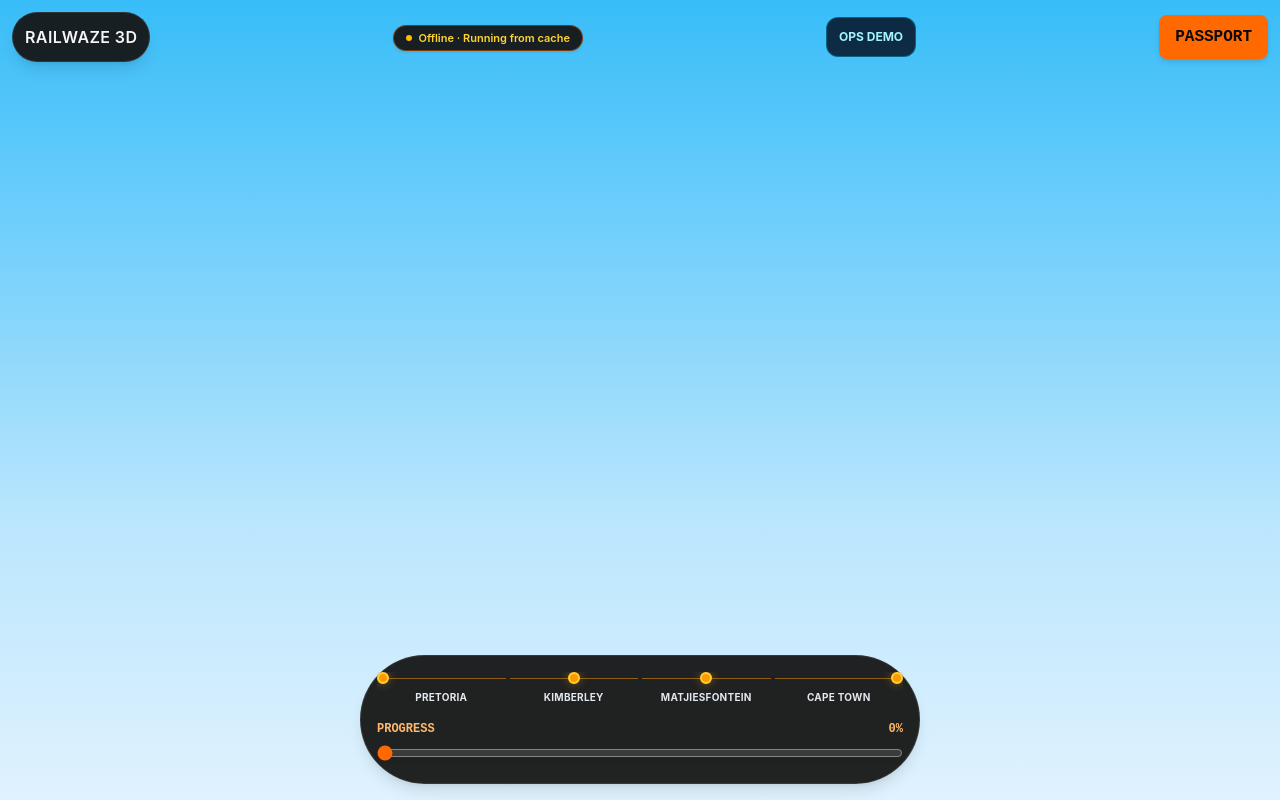
Test: UnifiedViewport Component (#41) › fetches real route and waypoint datasets on mount and does not render placeholder viewport
Expected: the button with aria-label "Open Kimberley" is shown, [510, 672, 638, 705]
Expected: the button with aria-label "Open Matjiesfontein" is shown, [642, 672, 770, 705]
Click the button with aria-label "Open Pretoria": (441, 688) [377, 672, 506, 705]
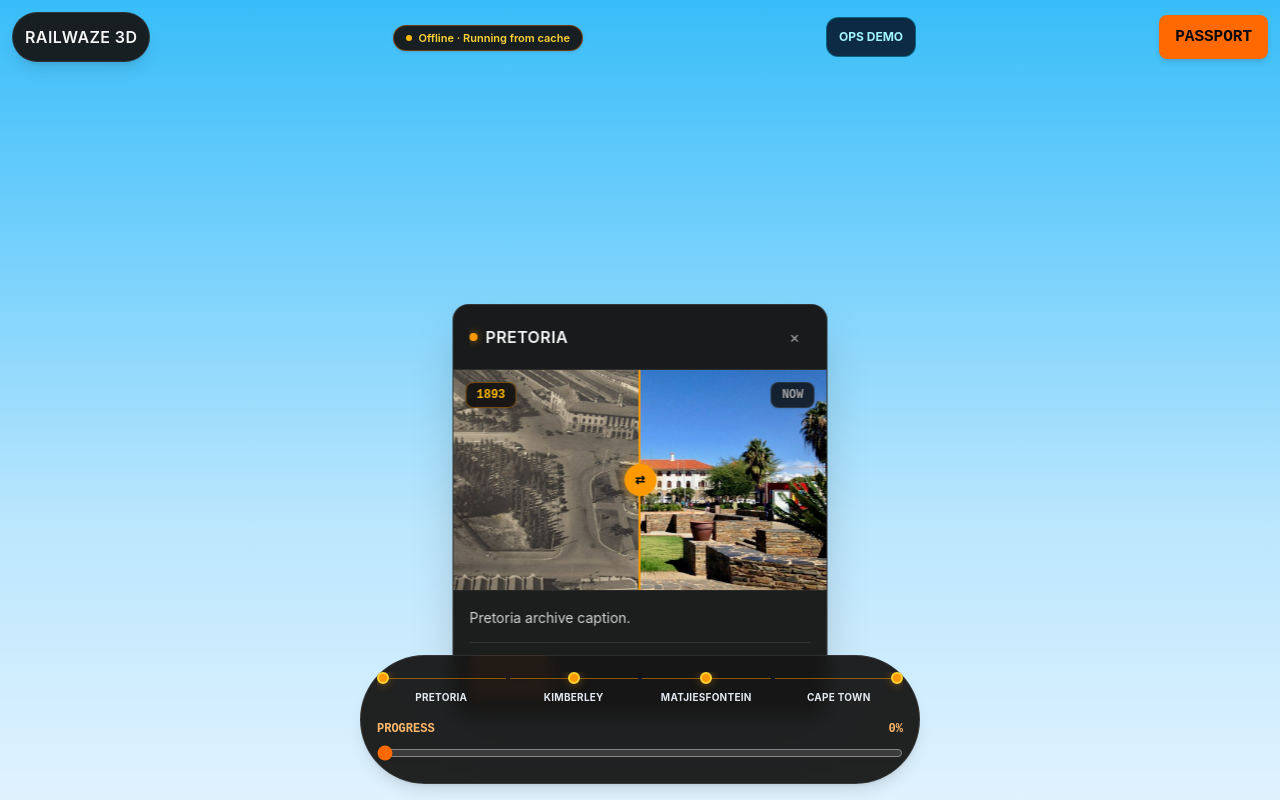
Expected: the text "Pretoria archive caption." is shown, [470, 609, 631, 626]
